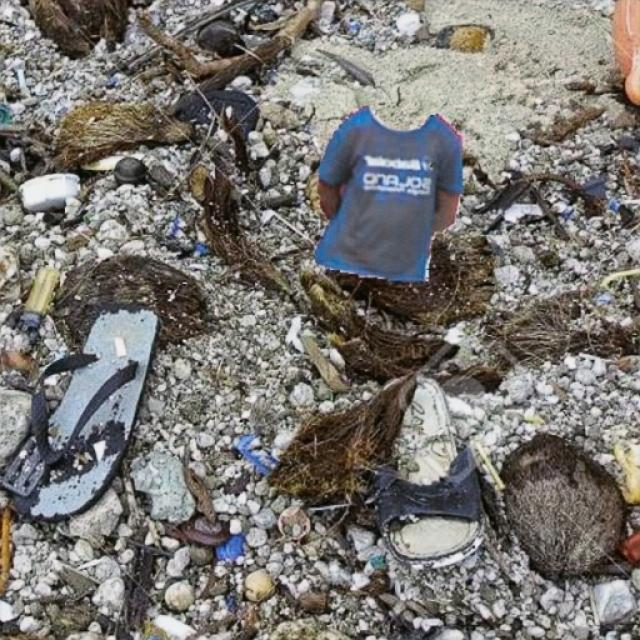Person in Rubble: (315, 106, 461, 280)
